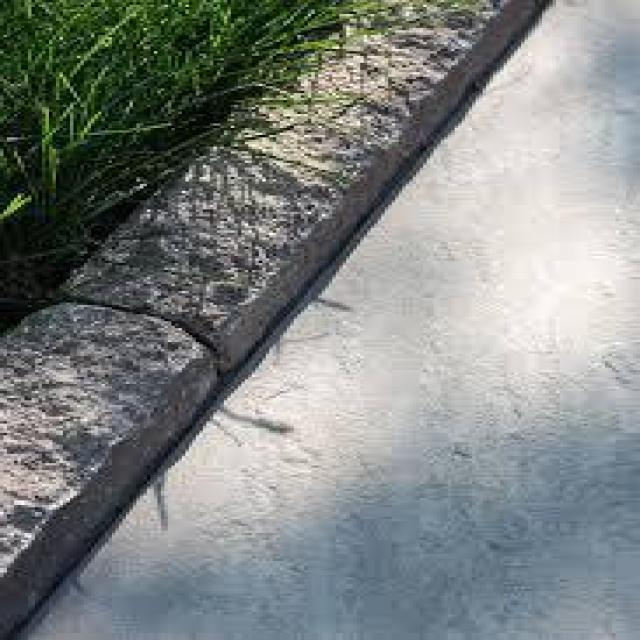bump: (0, 0, 525, 615)
